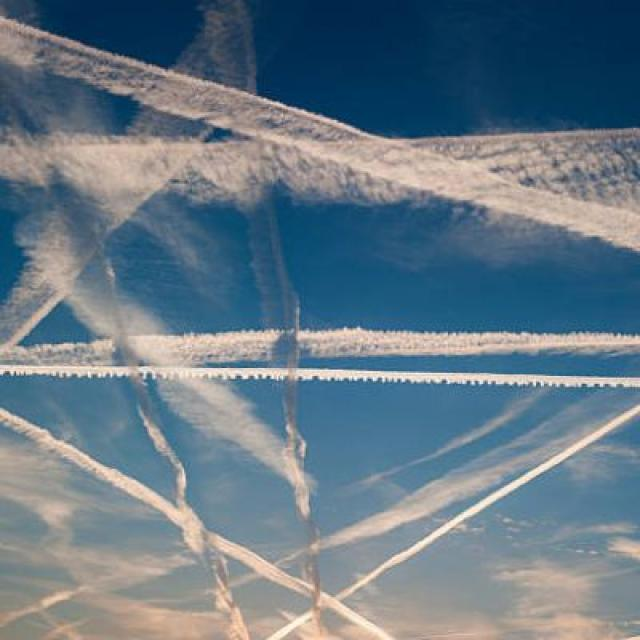Ct: (1, 21, 640, 498)
